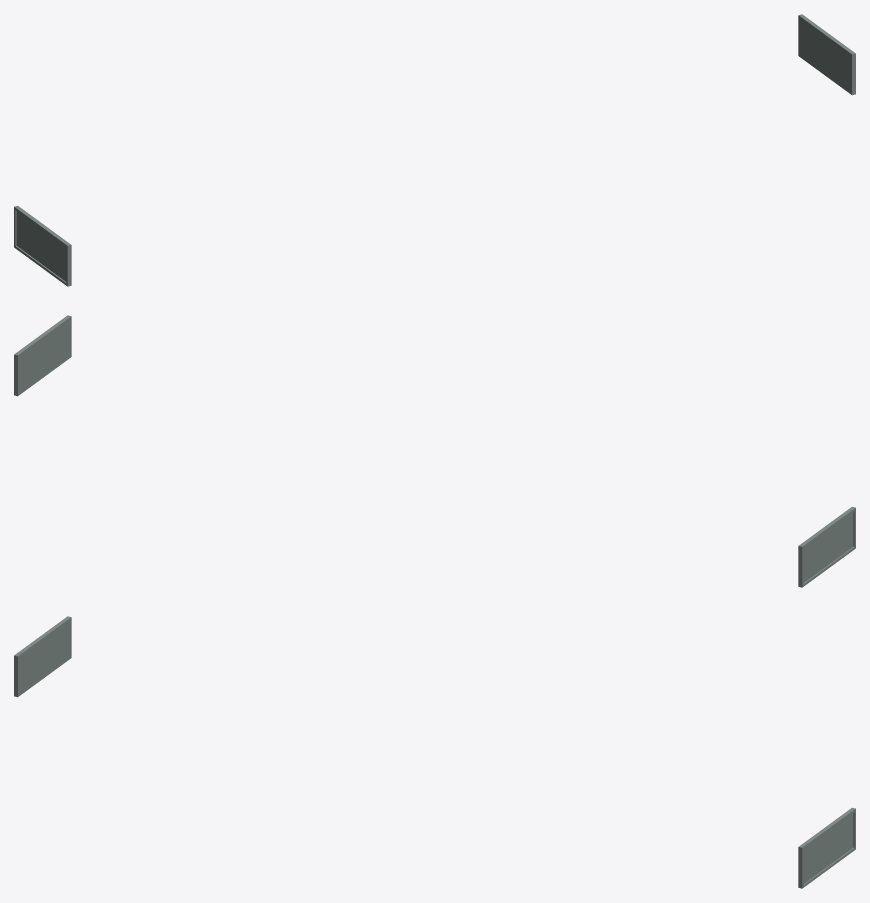
Rendered from Plates.glb.
3 views of the same model, one above another, from view 1: azimuth 30°, elevation 25°; view 2: azimuth 150°, elevation 25°; view 3: azimuth 330°, elevation 25° (orthographic).
Visible parts, largest first — view 1: Cube.034; view 2: Cube.034; view 3: Cube.034.
Boxes of the visible parts, x1,y1,x2,y2 form: Cube.034: [14, 14, 855, 286]; Cube.034: [14, 315, 855, 587]; Cube.034: [14, 616, 855, 888].
Size of the model in its own units: 0.1303 by 0.00645 by 0.0154.
1 material, 1 textured.
